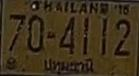0: (26, 14, 44, 52)
1: (82, 17, 88, 54), (102, 17, 106, 54)
2: (114, 18, 130, 55)
4: (60, 16, 74, 53)
7: (9, 14, 25, 51)
PTE: (42, 56, 97, 75)
